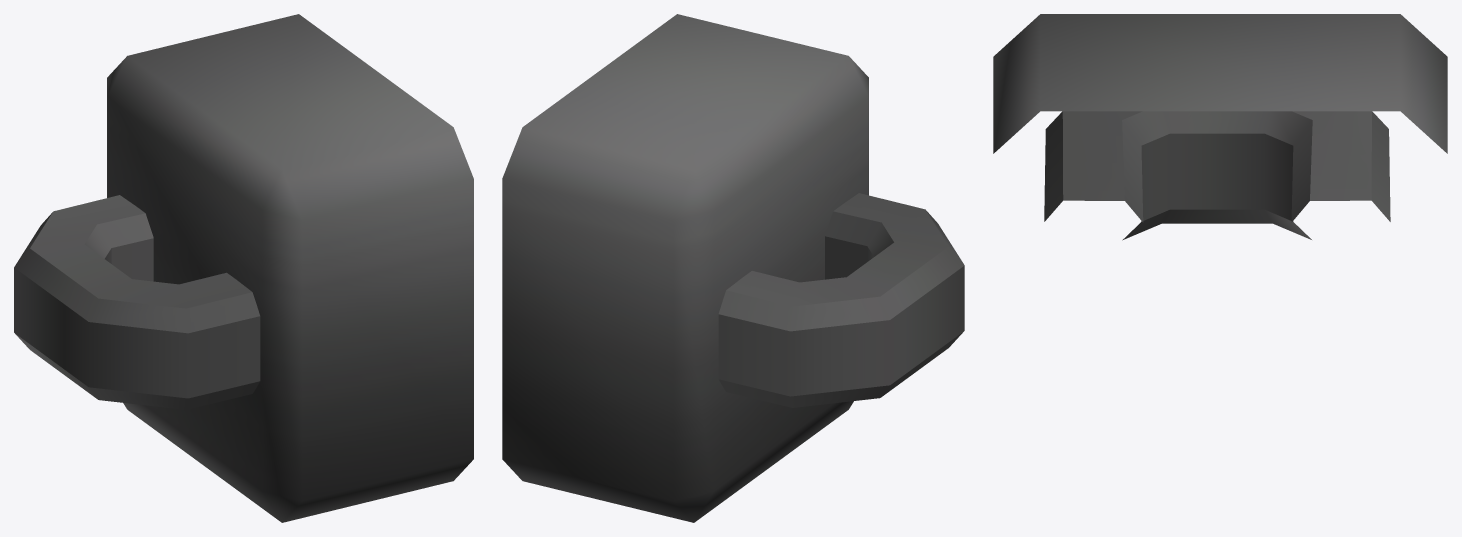
File: ChainCube_1.glb
3 renders of one model, left to right at view 1: azimuth 30°, elevation 25°; view 2: azimuth 150°, elevation 25°; view 3: azimuth 270°, elevation 25°, orthographic. The views are drawn at different scales.
Parts seen in each view (by area): view 1: ChainCube_1; view 2: ChainCube_1; view 3: ChainCube_1.
Boxes of the visible parts, bbox=[...] form: ChainCube_1: bbox=[14, 14, 473, 522]; ChainCube_1: bbox=[502, 14, 964, 522]; ChainCube_1: bbox=[993, 14, 1447, 240].
Size of the model in its own units: 0.167 by 0.1731 by 0.1731.
Materials: 2 (2 with a texture image).
